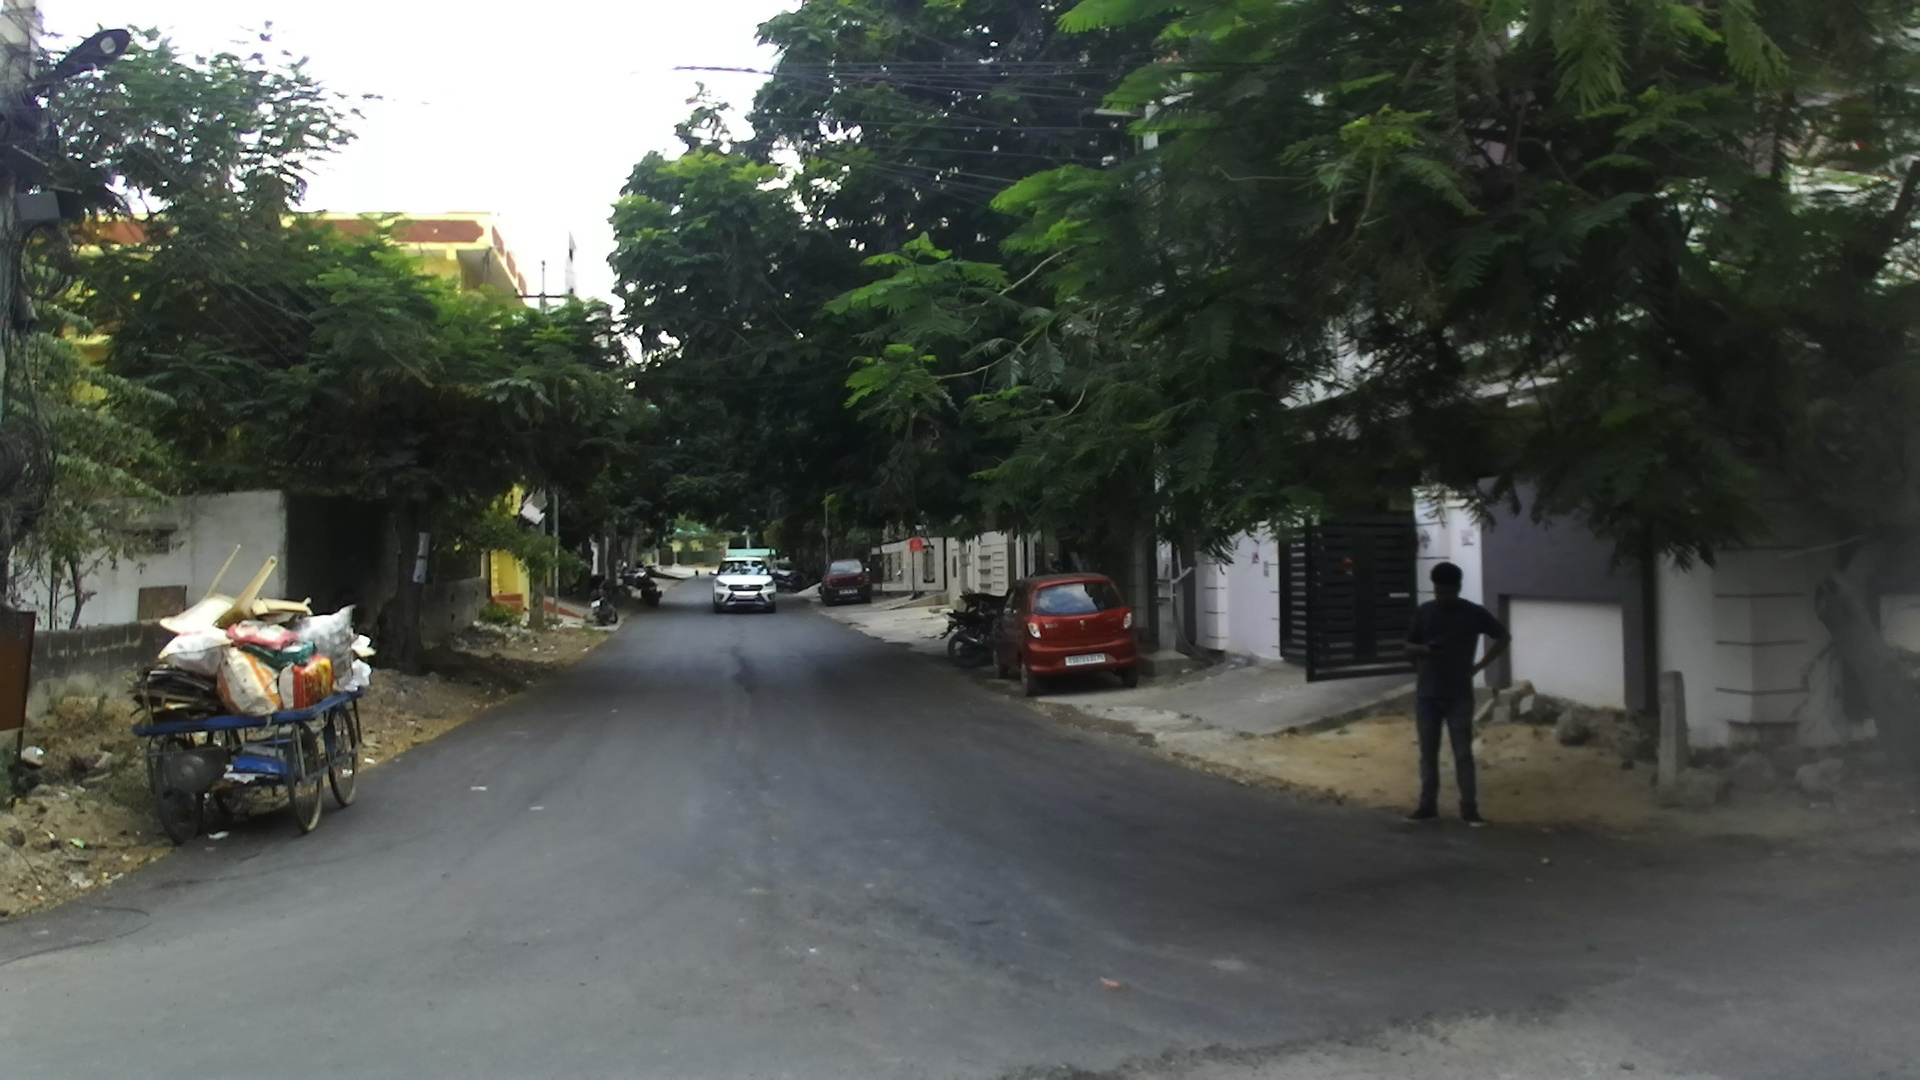vehicle: (131, 589, 377, 844), (984, 572, 1143, 688), (713, 545, 782, 611), (711, 551, 779, 612), (820, 560, 870, 603)
